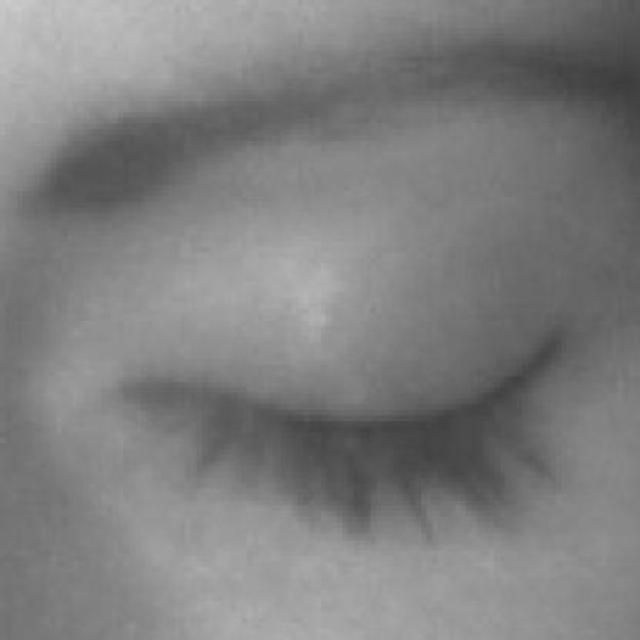drowsy: (100, 188, 598, 610)
